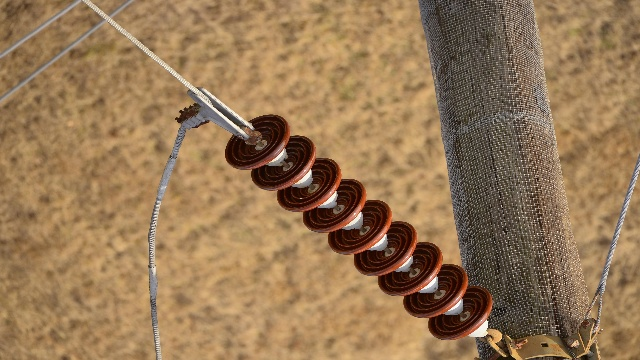insulator_unspecified: (227, 114, 493, 341)
